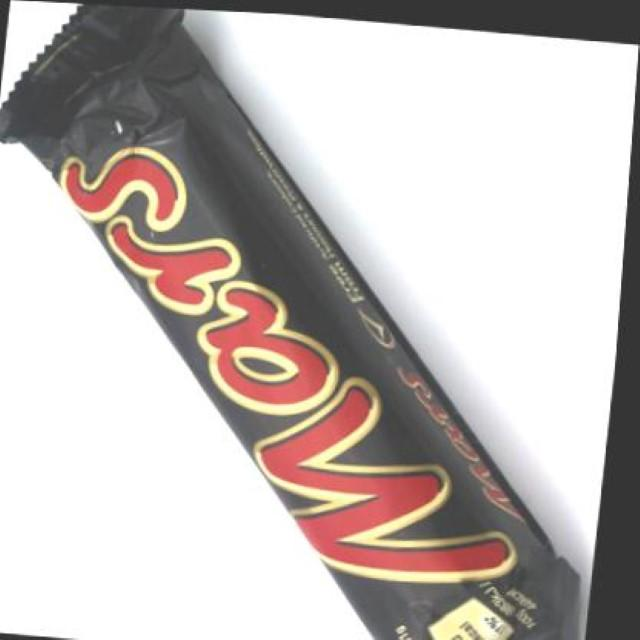mars_chocolate: (94, 65, 574, 640)
